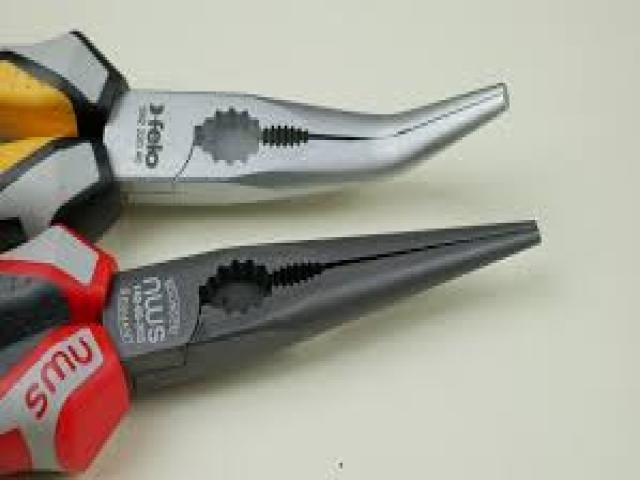Needle-nose pliers: (0, 220, 539, 473), (1, 32, 508, 251)
